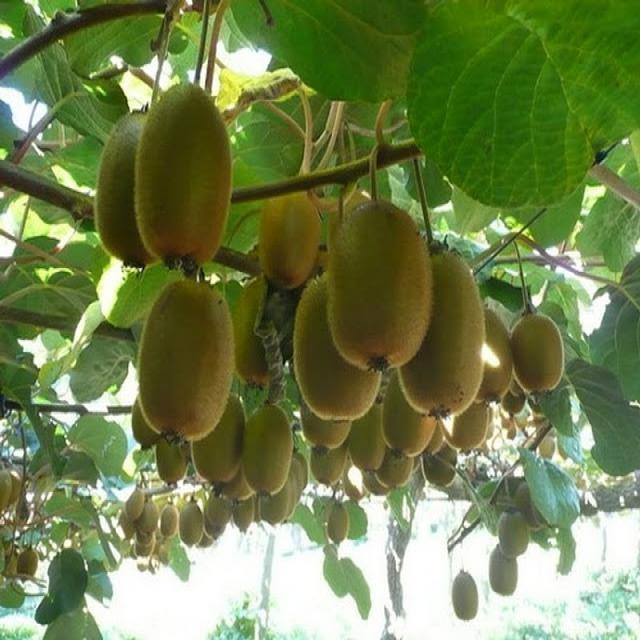kiwi: (138, 82, 235, 268), (331, 200, 432, 376), (138, 279, 235, 439), (398, 249, 488, 419), (294, 270, 383, 424), (97, 113, 171, 272), (258, 187, 323, 283), (192, 396, 245, 486), (511, 314, 565, 401), (243, 409, 292, 500), (473, 306, 514, 409), (350, 400, 387, 472), (157, 425, 190, 485), (489, 543, 520, 599), (498, 512, 529, 560), (454, 569, 480, 624), (180, 501, 204, 548), (328, 503, 350, 547), (126, 487, 145, 520)
